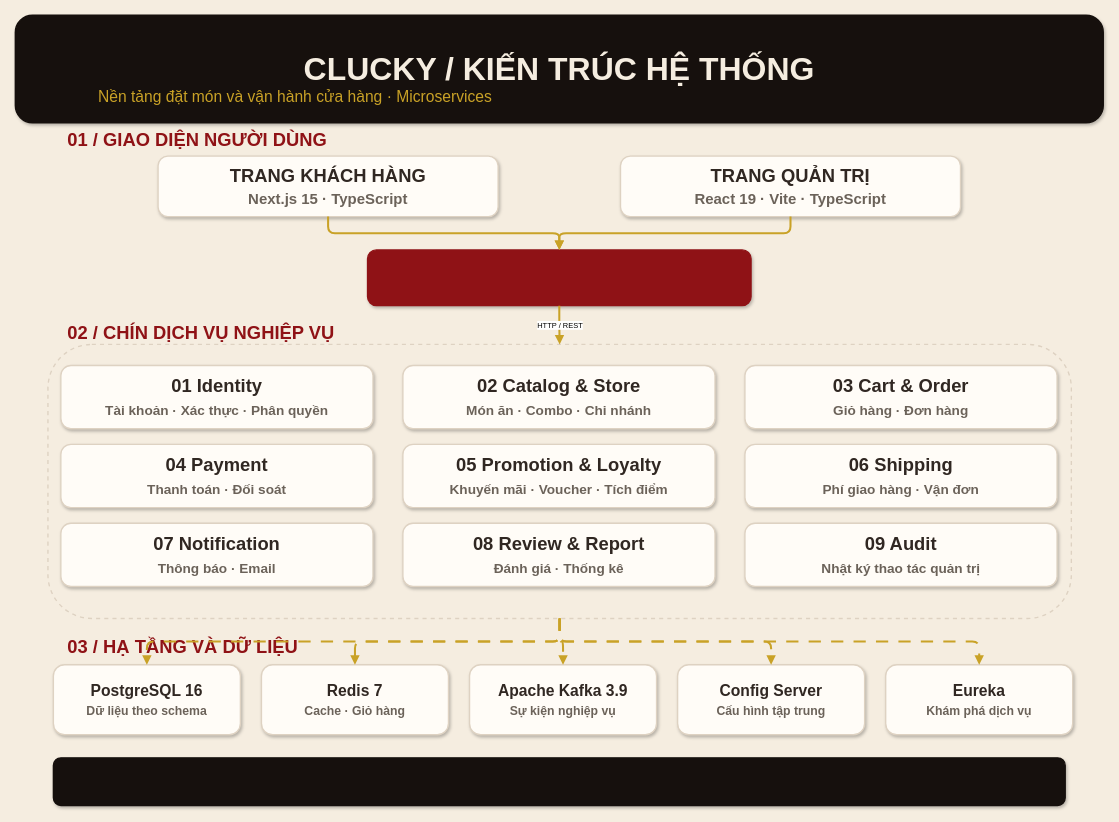
This 1119x822 diagram has some shape labels left out. Each missing label, with the centre of its shape:
"API GATEWAY Định tuyến · JWT / RBAC · Kiểm soát truy cập" belongs at (559,278).
"TÍCH HỢP NGOÀI (tùy cấu hình) Firebase / Google · SePay · Mapbox · Cloudinary" belongs at (560,782).
